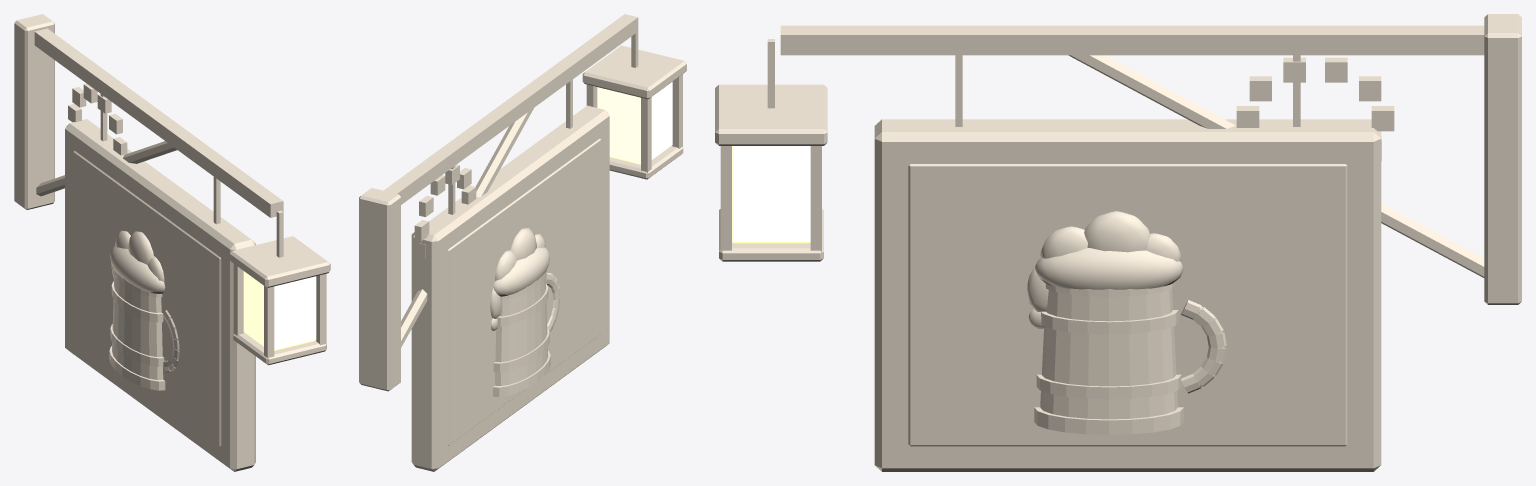
File: SM_VK_Prop_InnSign.fbx
3 views of the same model, side by side, from view 1: azimuth 30°, elevation 25°; view 2: azimuth 150°, elevation 25°; view 3: azimuth 270°, elevation 25° (orthographic). The views are drawn at different scales.
Visible parts, largest first — view 1: SM_VK_Prop_InnSign.001; view 2: SM_VK_Prop_InnSign.001; view 3: SM_VK_Prop_InnSign.001.
Part boxes in pixels (<box>): SM_VK_Prop_InnSign.001: <box>14,14,330,471</box>; SM_VK_Prop_InnSign.001: <box>359,14,686,471</box>; SM_VK_Prop_InnSign.001: <box>715,14,1521,471</box>.
Bounding box in the file's own units: 0.3 × 1.3 × 2.15.
